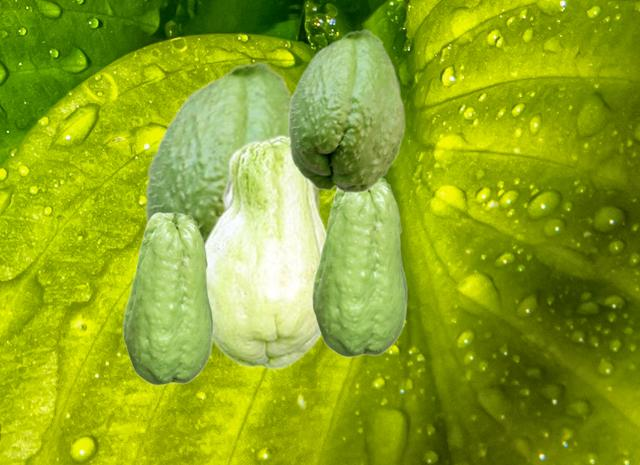sayote: (144, 60, 320, 238), (204, 134, 326, 369), (287, 28, 405, 193), (311, 178, 407, 357), (122, 211, 213, 385)
